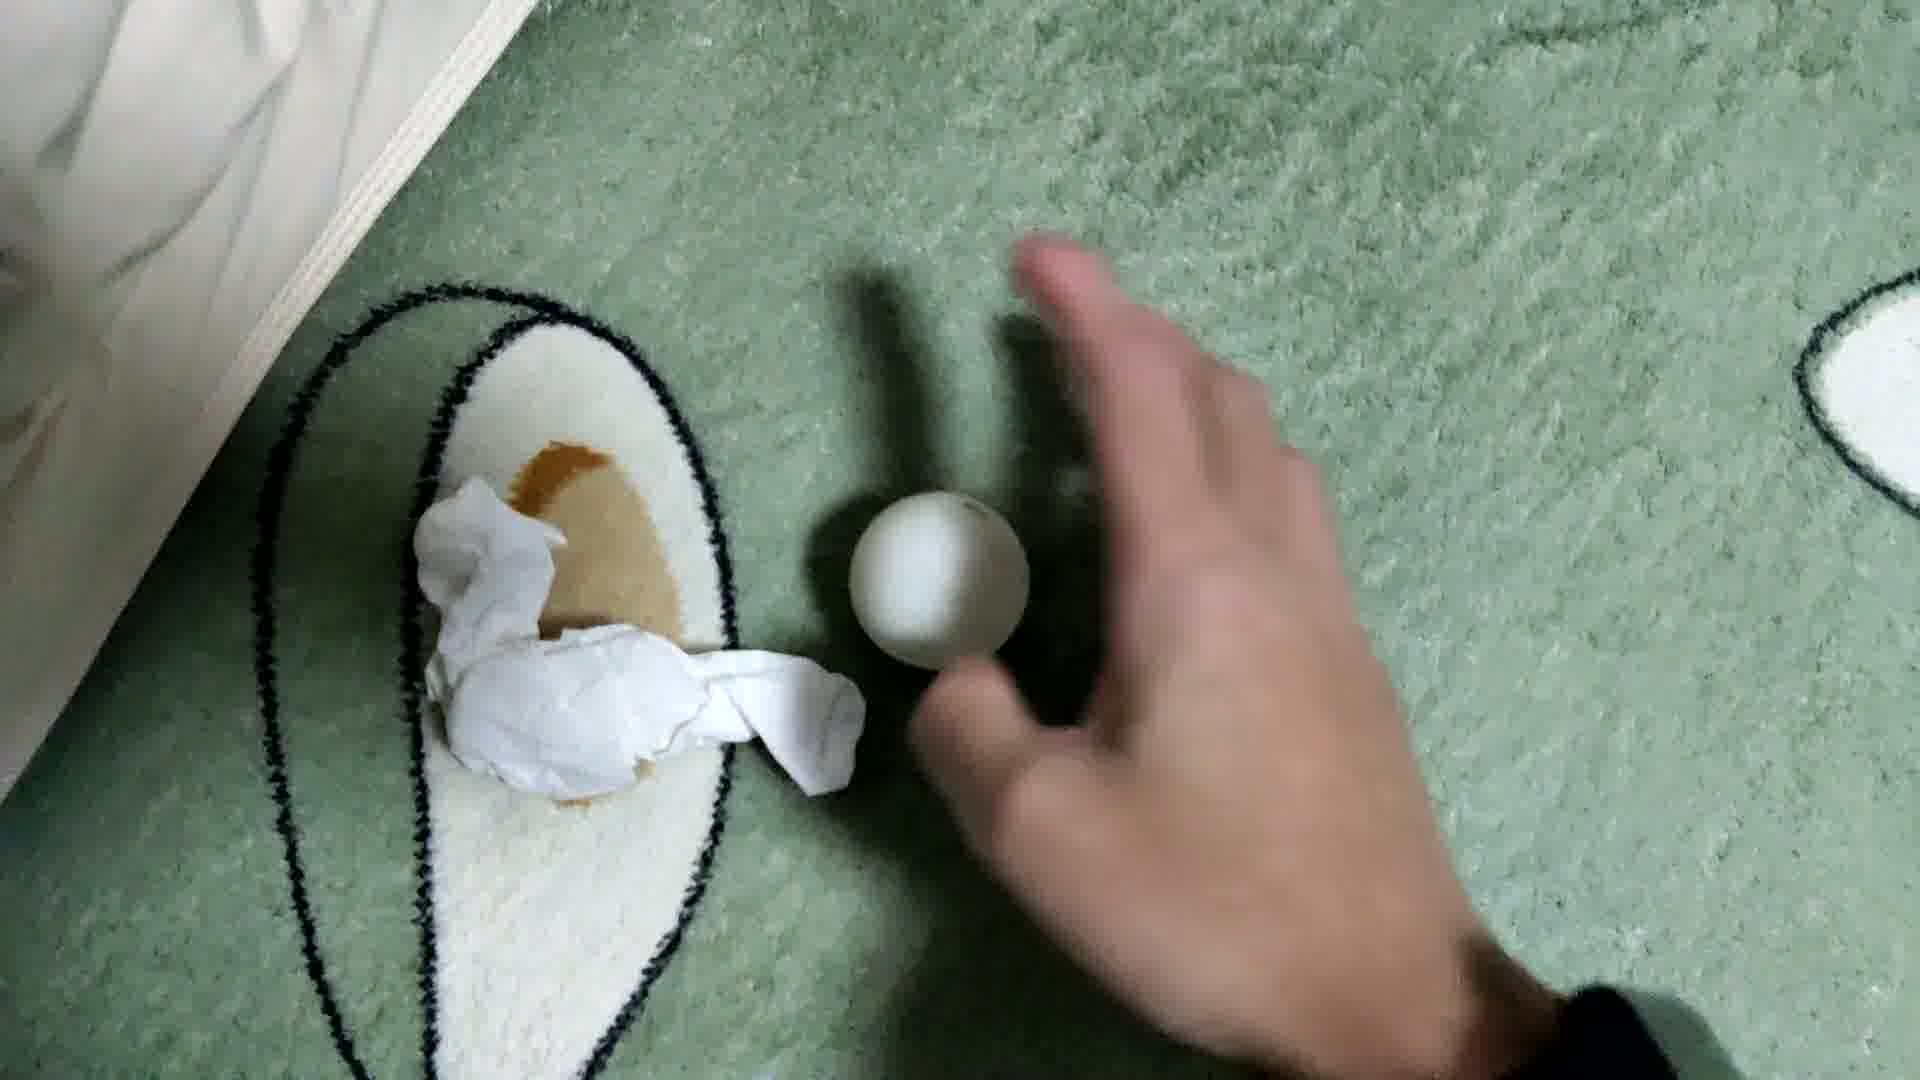Ball: (843, 487, 1027, 671)
